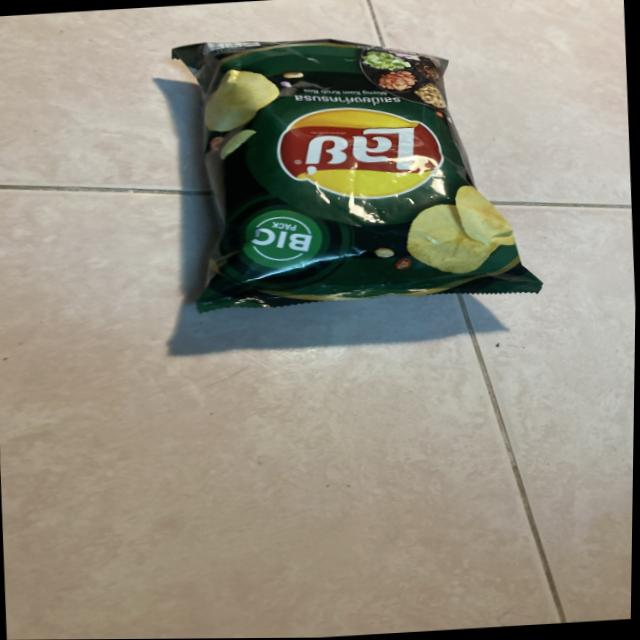Laygreen: (147, 8, 561, 344)
